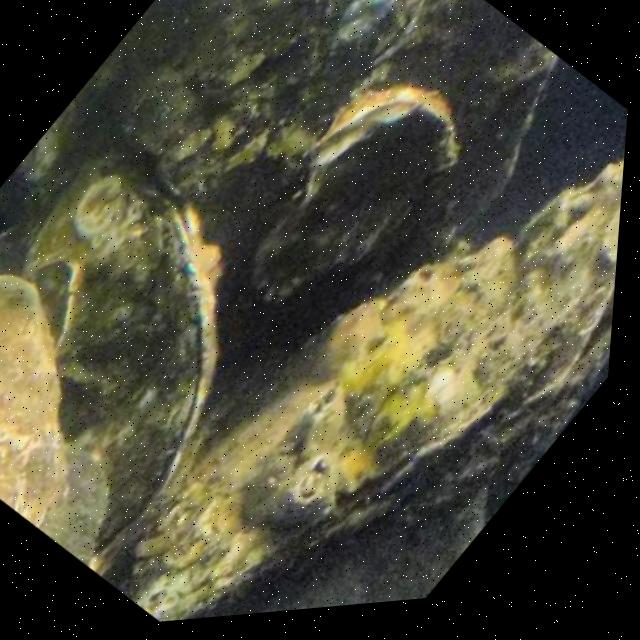Oyster-Closed: (34, 148, 217, 574), (247, 83, 457, 303)
Oyster-Indeterminate: (122, 168, 623, 622), (481, 226, 619, 529), (241, 484, 492, 614), (0, 274, 107, 564)
